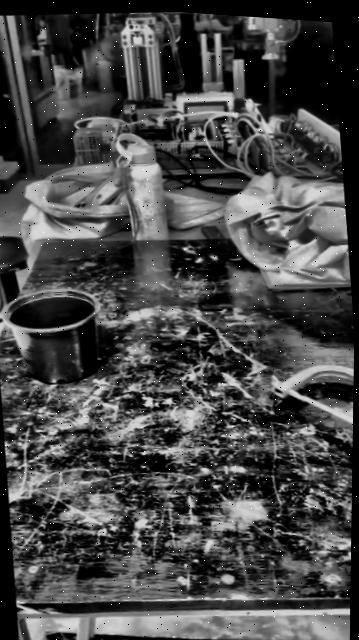pot: (0, 283, 104, 391)
